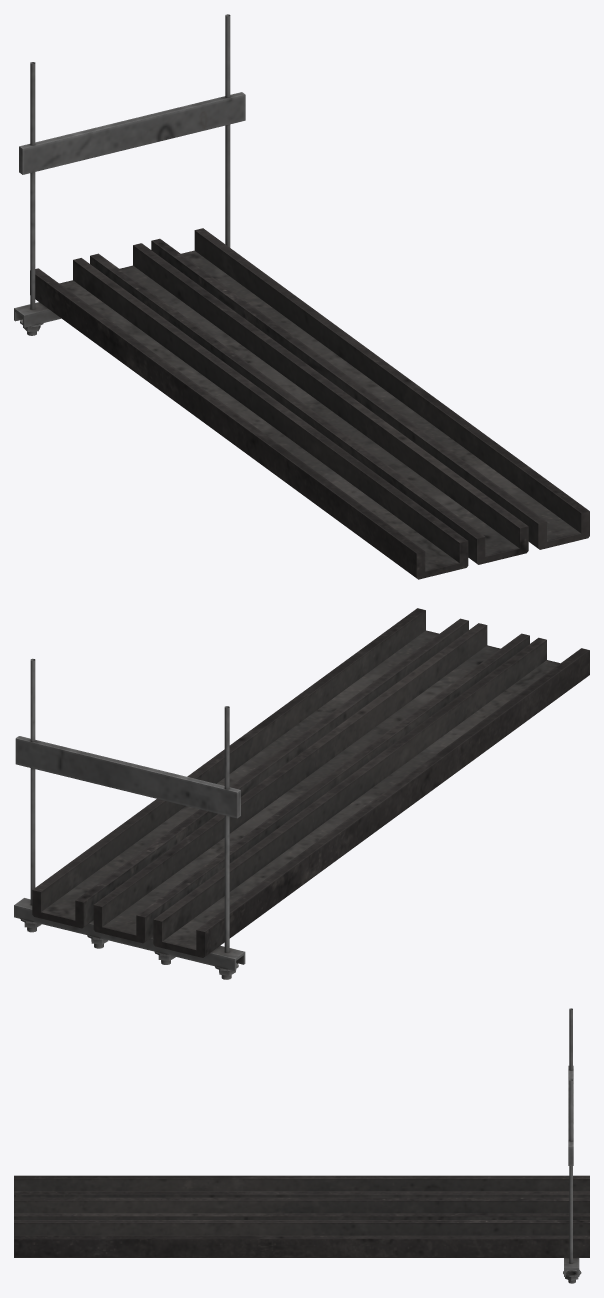
The model's file is SM_Roof_Holder_01.fbx.
3 renders of one model, top to bottom at view 1: azimuth 30°, elevation 25°; view 2: azimuth 150°, elevation 25°; view 3: azimuth 270°, elevation 25°, orthographic. The views are drawn at different scales.
Visible parts, largest first — view 1: SM_Roof_Holder_01_LOD0; view 2: SM_Roof_Holder_01_LOD0; view 3: SM_Roof_Holder_01_LOD0.
Part boxes in pixels (x1=…): SM_Roof_Holder_01_LOD0: x1=14, y1=14, x2=589, y2=579; SM_Roof_Holder_01_LOD0: x1=14, y1=608, x2=589, y2=979; SM_Roof_Holder_01_LOD0: x1=14, y1=1008, x2=589, y2=1283.
Size of the model in its own units: 66.95 by 200 by 77.35.
1 material, 1 textured.
